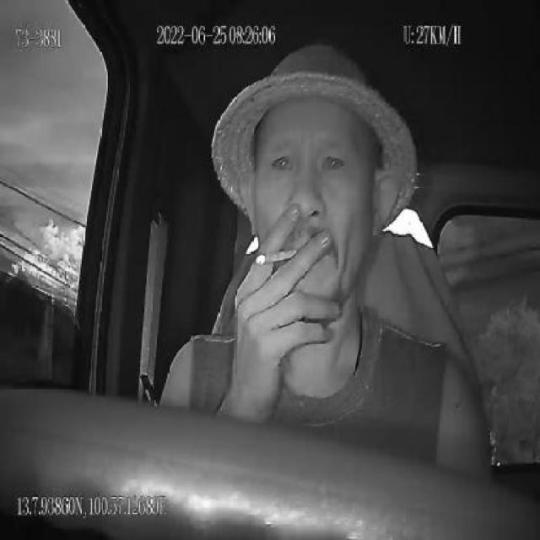smoking: (256, 245, 297, 269)
